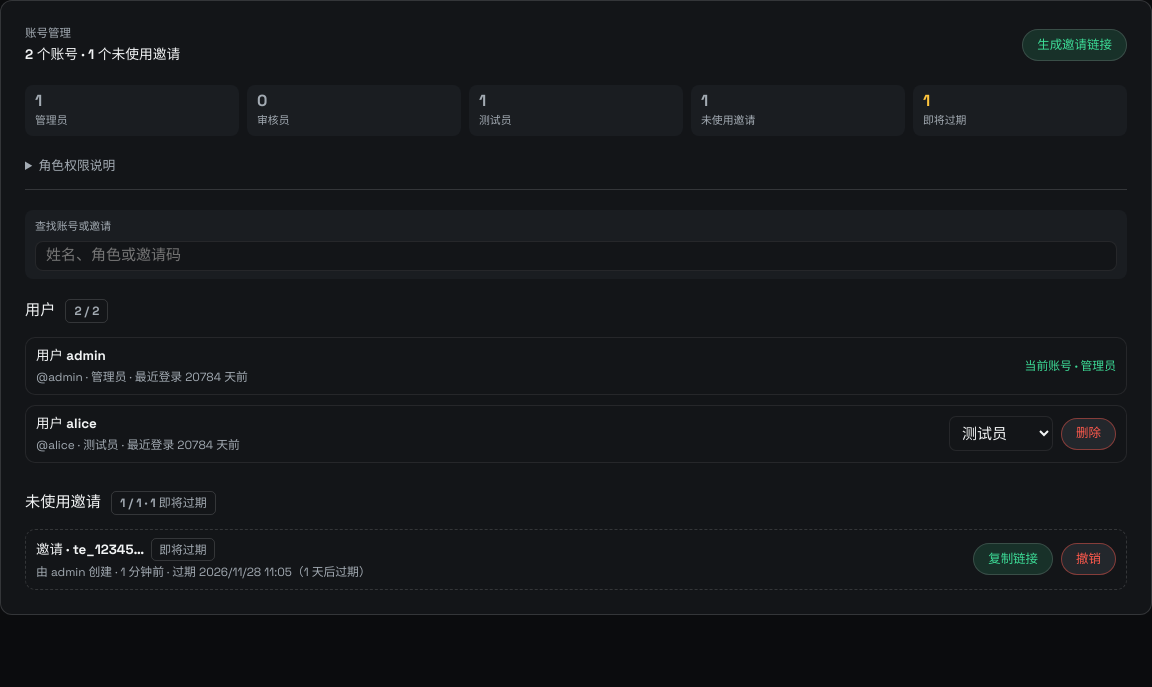
AccountManagement › reports clipboard failure after authoritative invite creation without claiming it copied
Click the button "生成邀请链接".
click(1075, 45)  # box x1=1022 y1=29 x2=1127 y2=61
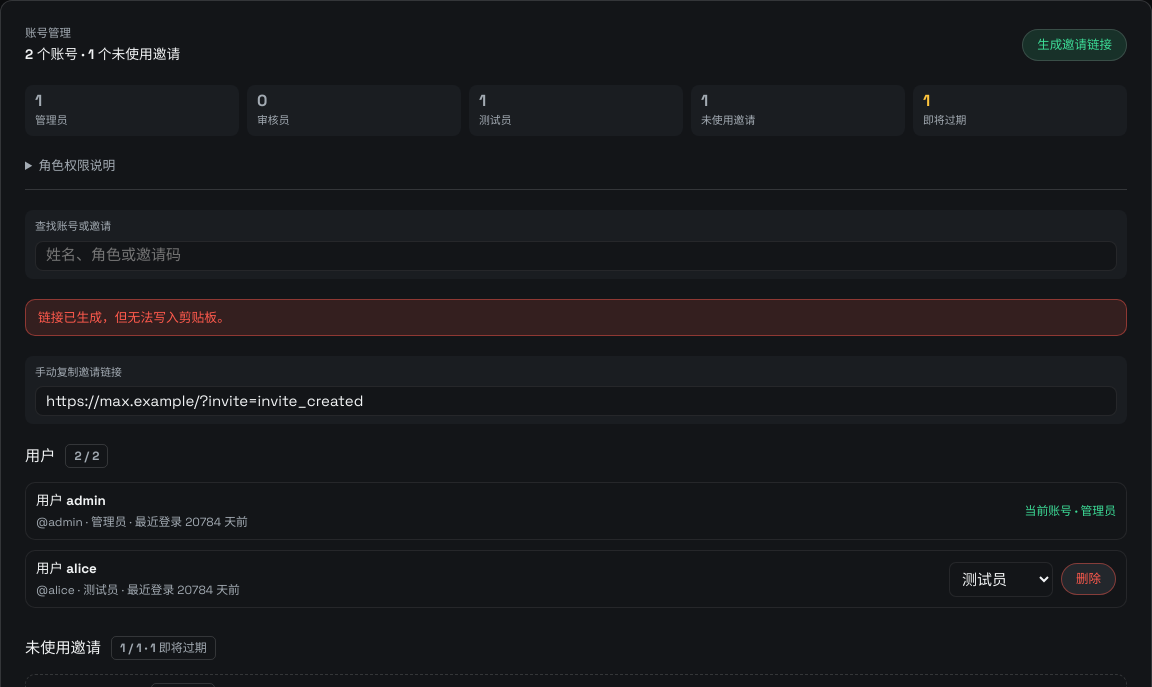
Check: the text "链接已生成，但无法写入剪贴板。" is shown, box x1=25 y1=299 x2=1127 y2=336
Check: the field labelled "手动复制邀请链接" holds "https://max.example/?invite=invite_created", box x1=35 y1=386 x2=1117 y2=416
